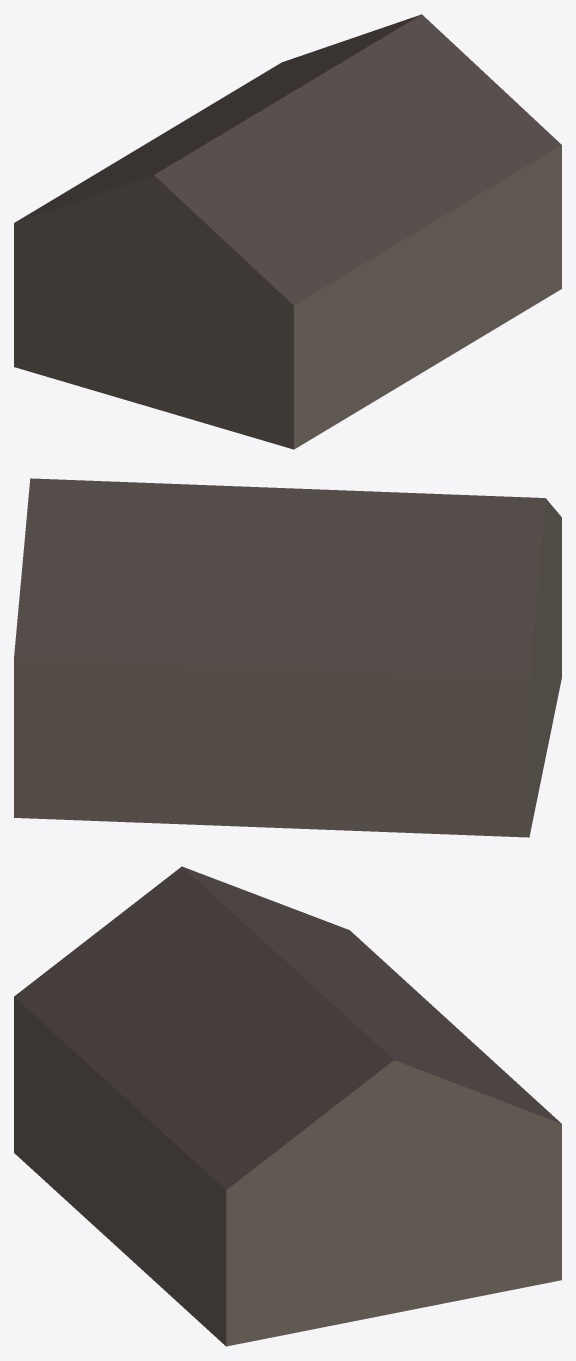
3 renders of one model, top to bottom at view 1: azimuth 30°, elevation 25°; view 2: azimuth 150°, elevation 25°; view 3: azimuth 270°, elevation 25°, orthographic. The views are drawn at different scales.
Parts seen in each view (by area): view 1: HP-w859488730; view 2: HP-w859488730; view 3: HP-w859488730.
Boxes of the visible parts, x1,y1,x2,y2 form: HP-w859488730: [14, 14, 561, 449]; HP-w859488730: [14, 478, 561, 837]; HP-w859488730: [14, 866, 561, 1346].
Bounding box in the file's own units: 21.42 × 9.72 × 19.07.
